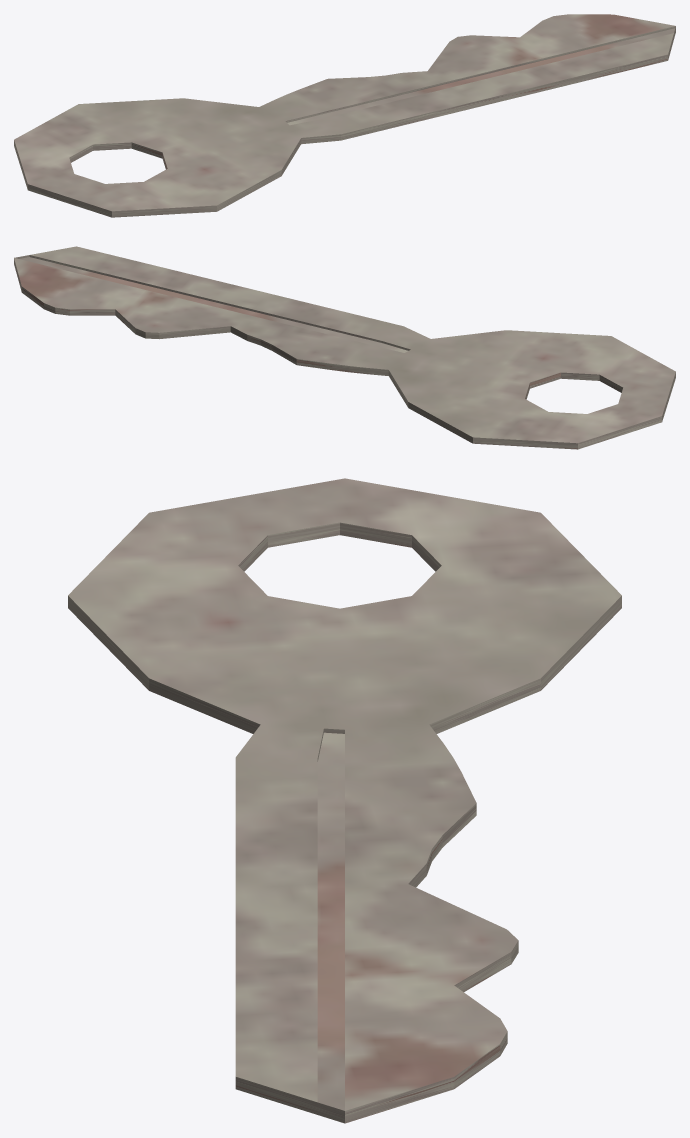
File: chave.fbx
3 views of the same model, one above another, from view 1: azimuth 30°, elevation 25°; view 2: azimuth 150°, elevation 25°; view 3: azimuth 270°, elevation 25° (orthographic). The views are drawn at different scales.
Parts seen in each view (by area): view 1: Cube; view 2: Cube; view 3: Cube.
Part boxes in pixels (x1,y1,x2,y2): Cube: (14, 14, 675, 217); Cube: (14, 246, 675, 449); Cube: (68, 478, 621, 1123).
Size of the model in its own units: 652 by 6.07 by 241.
1 material, 1 textured.
